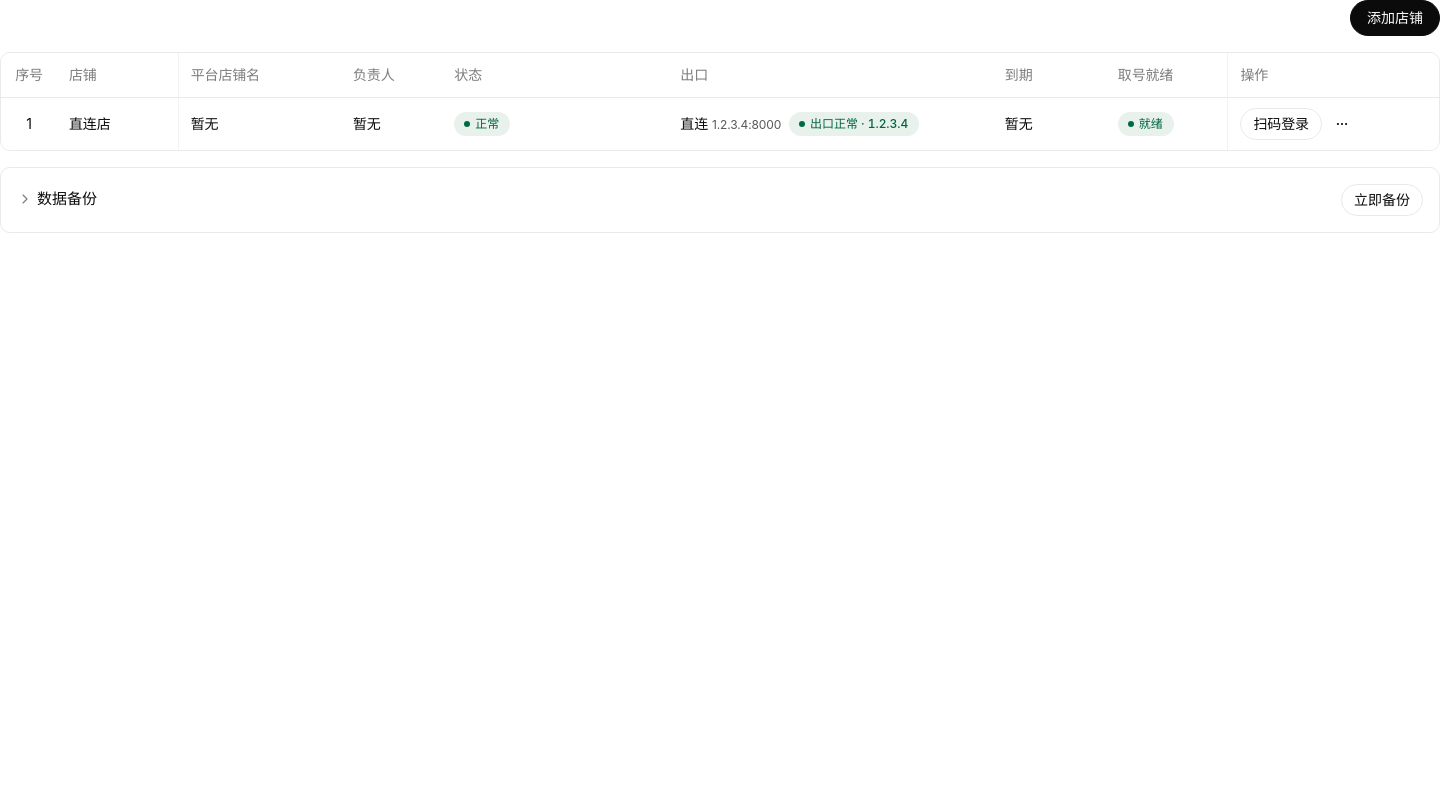
Test: 添加店铺的出口区 › 已有启用店铺在直连：直连选项禁用并说明原因
This screenshot has width=1440, height=810.
Expected: the table is shown, [1, 53, 1439, 150]
Click the button "添加店铺" at (1395, 18), box [1350, 0, 1439, 36]
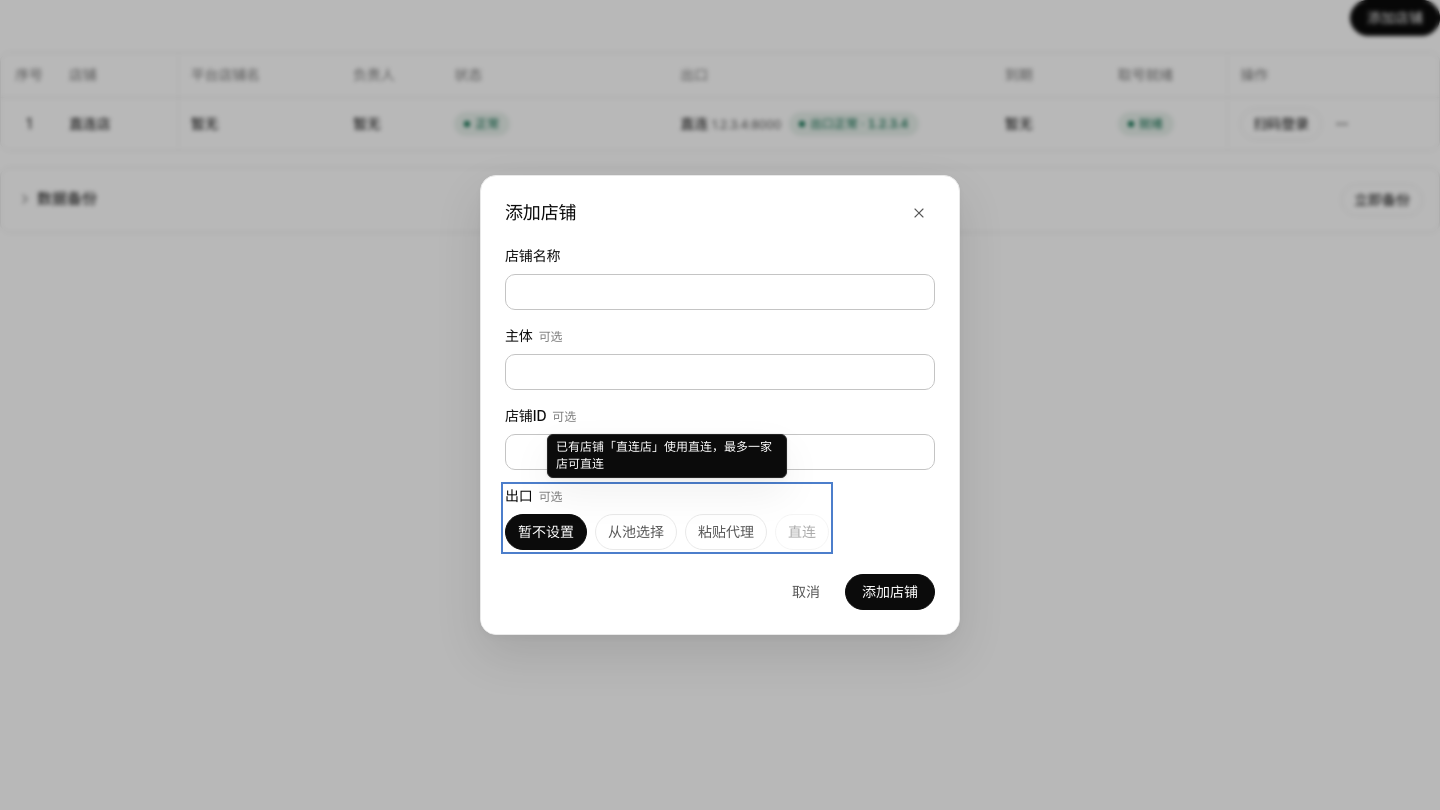
Expected: the button "直连" is disabled, [775, 514, 829, 550]
Expected: the tooltip reads "已有店铺「直连店」使用直连，最多一家店可直连", [556, 439, 772, 471]
